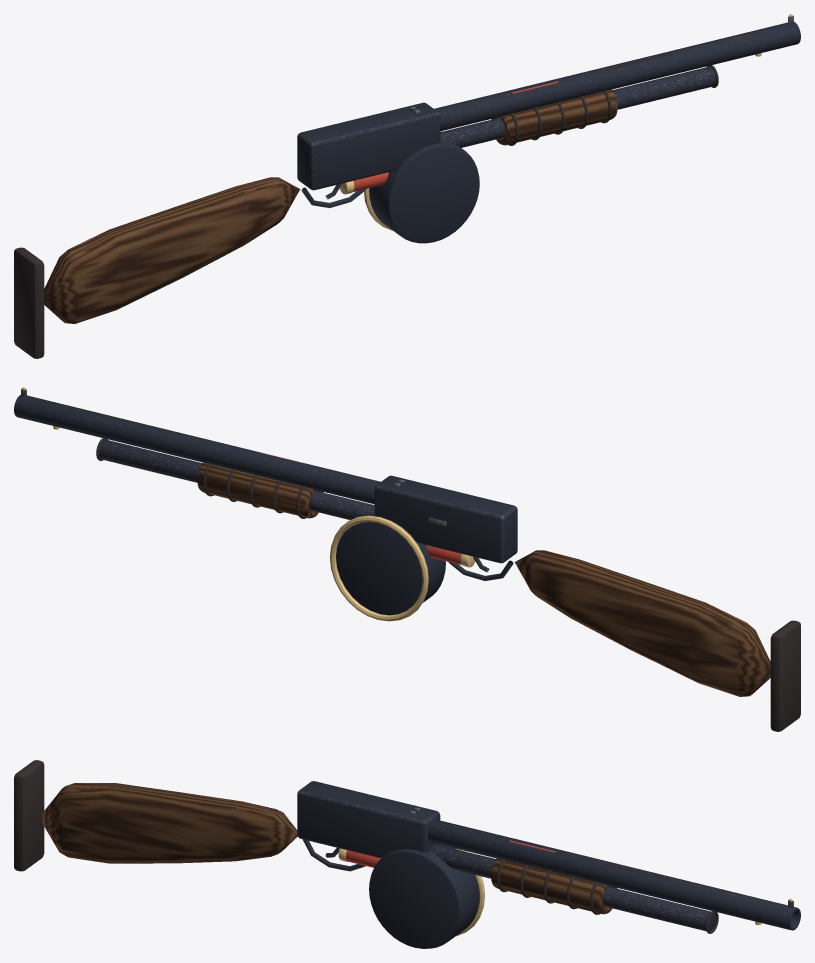
The model's file is drumflechette.glb.
3 views of the same model, one above another, from view 1: azimuth 30°, elevation 25°; view 2: azimuth 150°, elevation 25°; view 3: azimuth 330°, elevation 25° (orthographic).
Visible parts, largest first — view 1: stock, barrel, receiver, drum, tube_mag, pump, pad; view 2: stock, barrel, receiver, drum, tube_mag, pump, pad, drum_rim; view 3: stock, barrel, drum, receiver, tube_mag, pump, pad, trigger_guard, shell, drum_rim.
Boxes of the visible parts, x1,y1,x2,y2 form: stock: (44,177,299,323); barrel: (434,22,800,131); receiver: (297,102,440,190); drum: (369,140,479,243); tube_mag: (440,66,715,147); pump: (491,89,617,145); pad: (14,247,44,358); stock: (515,550,770,696); barrel: (14,395,380,504); receiver: (374,475,517,563); drum: (336,513,445,615); tube_mag: (99,439,374,519); pump: (197,462,323,518); pad: (770,620,800,731); drum_rim: (330,515,428,621); stock: (39,783,297,863); barrel: (427,819,800,930); drum: (369,844,479,948); receiver: (297,781,440,858); tube_mag: (430,844,716,930); pump: (491,858,617,914); pad: (14,760,44,871); trigger_guard: (302,839,365,871); shell: (345,850,380,867); drum_rim: (455,848,484,936).
Bounding box in the file's own units: 0.832 × 0.1561 × 0.045.
Materials: 1 (1 with a texture image).
